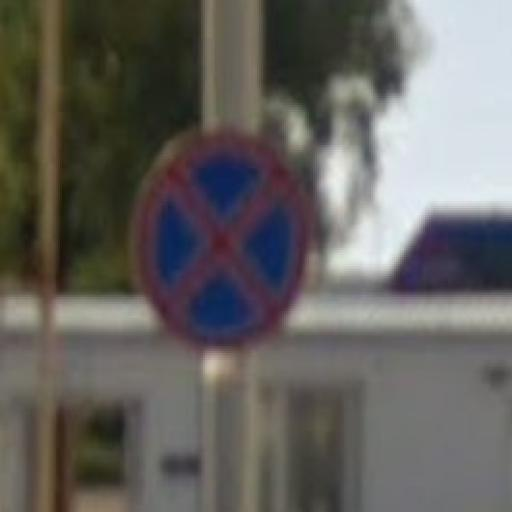traffic_sign: (136, 134, 312, 352)
